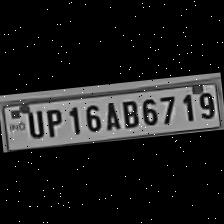1: (62, 102, 82, 136), (176, 90, 196, 123)
6: (80, 99, 103, 133), (137, 93, 159, 126)
7: (156, 92, 178, 124)
9: (192, 87, 216, 120)
A: (100, 97, 120, 131)
B: (118, 96, 140, 128)
P: (42, 104, 66, 138)
U: (22, 106, 45, 140)
